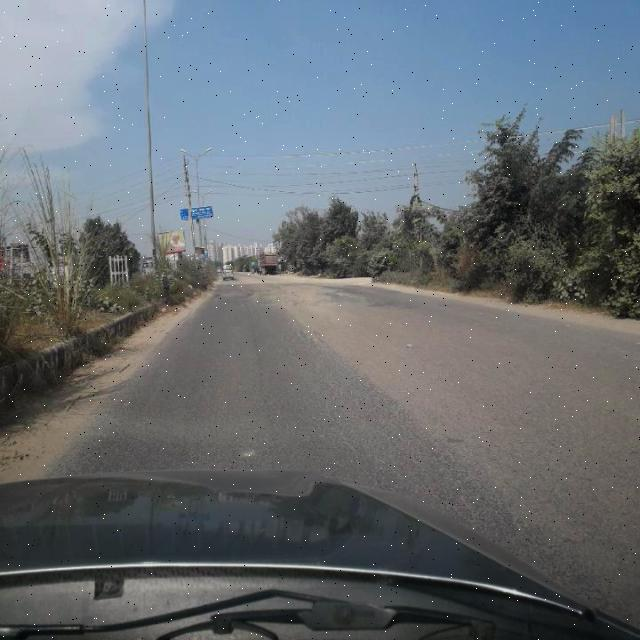D20: (319, 362, 589, 574), (61, 355, 315, 473)
D40: (559, 526, 602, 550), (295, 324, 338, 346)
